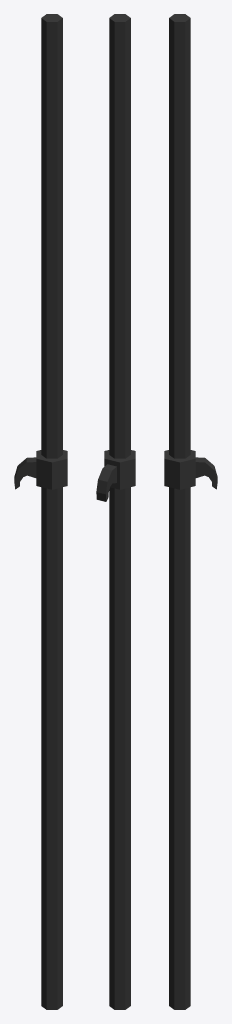
Rendered from Tripod_Support.obj.
3 renders of one model, left to right at view 1: azimuth 90°, elevation 25°; view 2: azimuth 150°, elevation 25°; view 3: azimuth 270°, elevation 25°, orthographic.
Parts seen in each view (by area): view 1: Tripod_Support; view 2: Tripod_Support; view 3: Tripod_Support.
Boxes of the visible parts, x1,y1,x2,y2 form: Tripod_Support: (14,14,67,1009); Tripod_Support: (96,14,135,1009); Tripod_Support: (164,14,217,1009).
Size of the model in its own units: 0.0462 by 1.39 by 0.0684.
